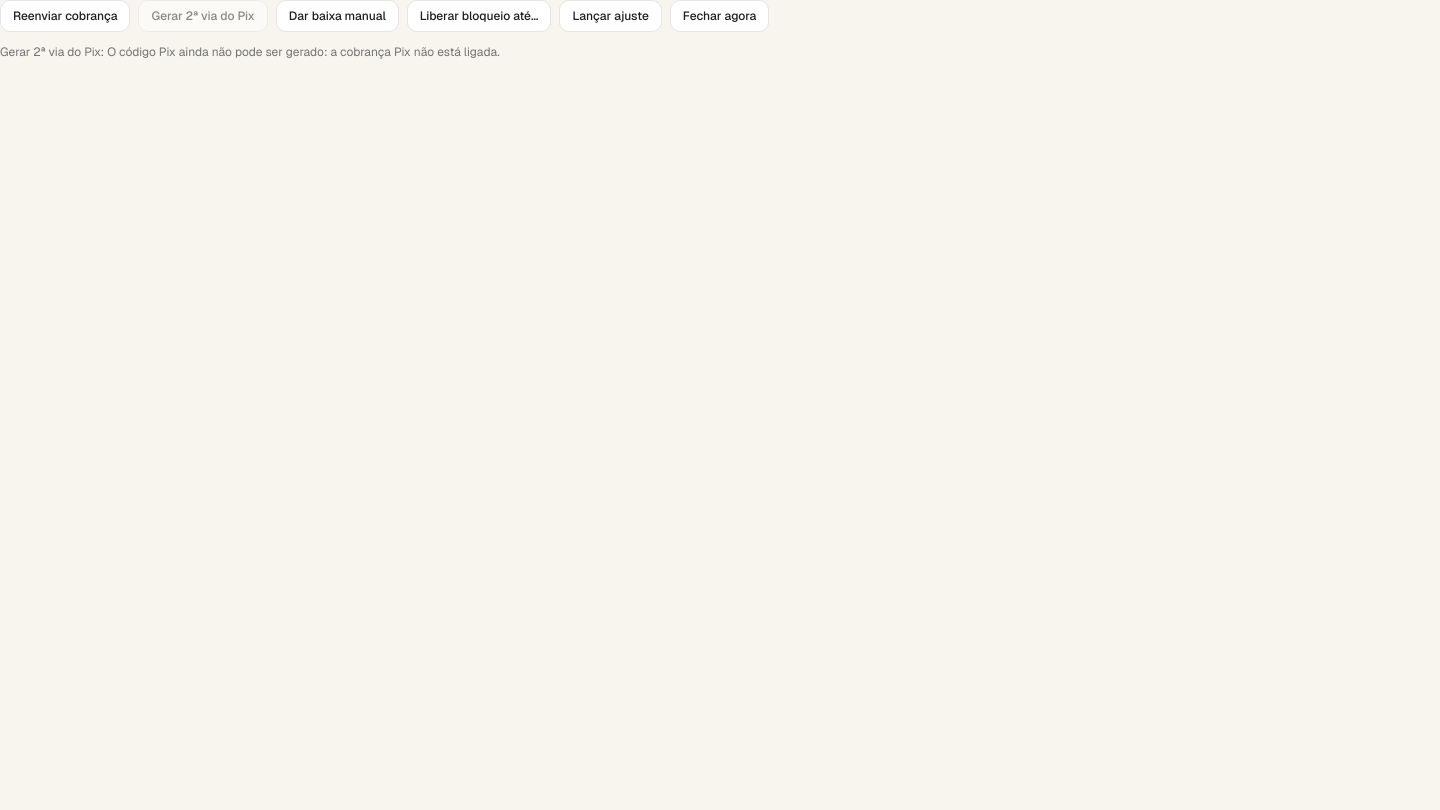
Test: Ações da fatura › botão com o verbo e o valor ('Dar baixa de R$ 1.248,60'), que segue o valor digitado
The image size is (1440, 810).
Click the button "Dar baixa manual" at (337, 16), box x1=276 y1=0 x2=399 y2=32
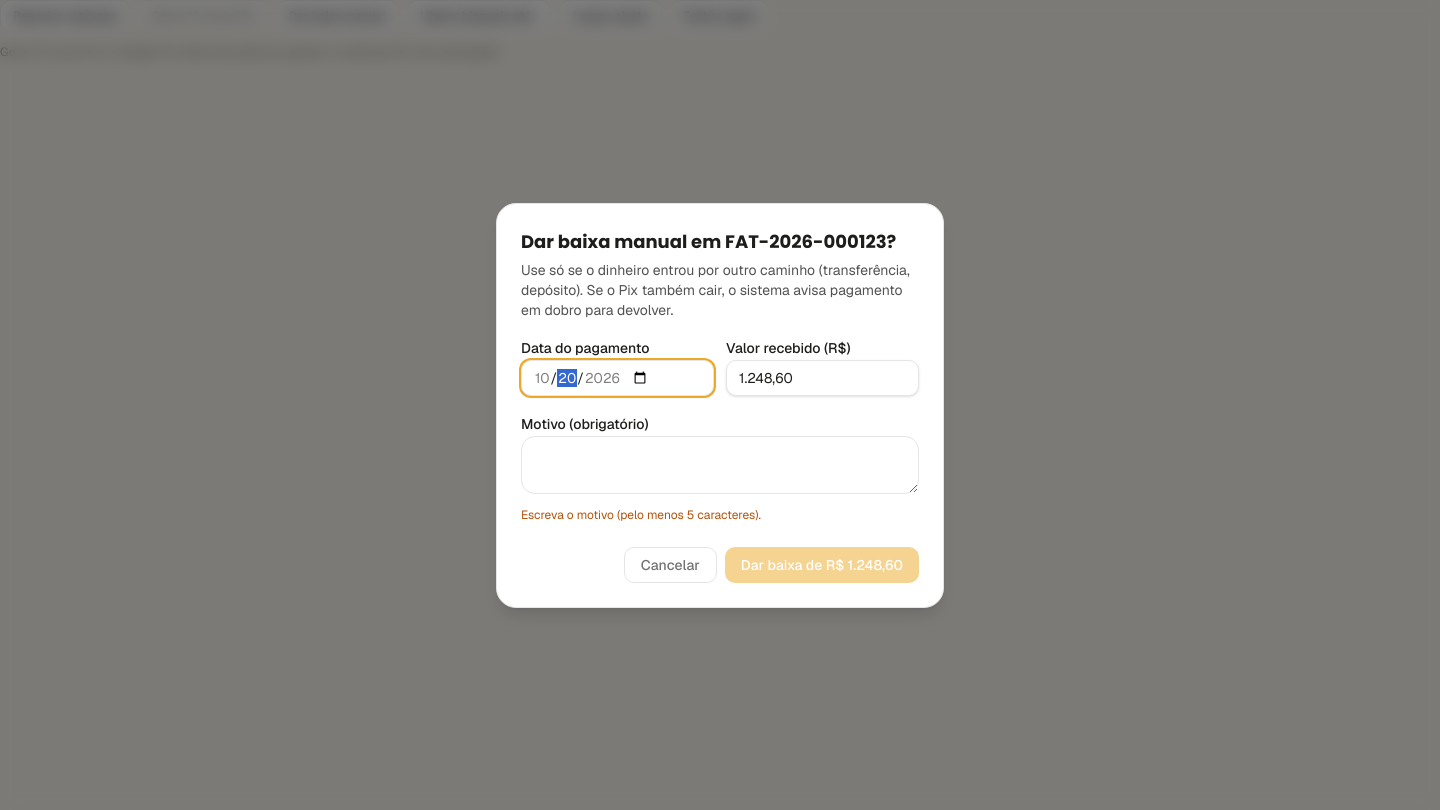
expect the heading "Dar baixa manual em FAT-2026-000123?" is shown: met, box x1=521 y1=228 x2=919 y2=256
expect the date field labelled "Data do pagamento" holds "2026-10-20": met, box x1=521 y1=360 x2=714 y2=396
expect the field labelled "Valor recebido (R$)" holds "1.248,60": met, box x1=726 y1=360 x2=919 y2=396
Type "Transferência recebida no Itaú" into the text box labelled "Motivo (obrigatório)" at (720, 464), box x1=521 y1=436 x2=919 y2=494
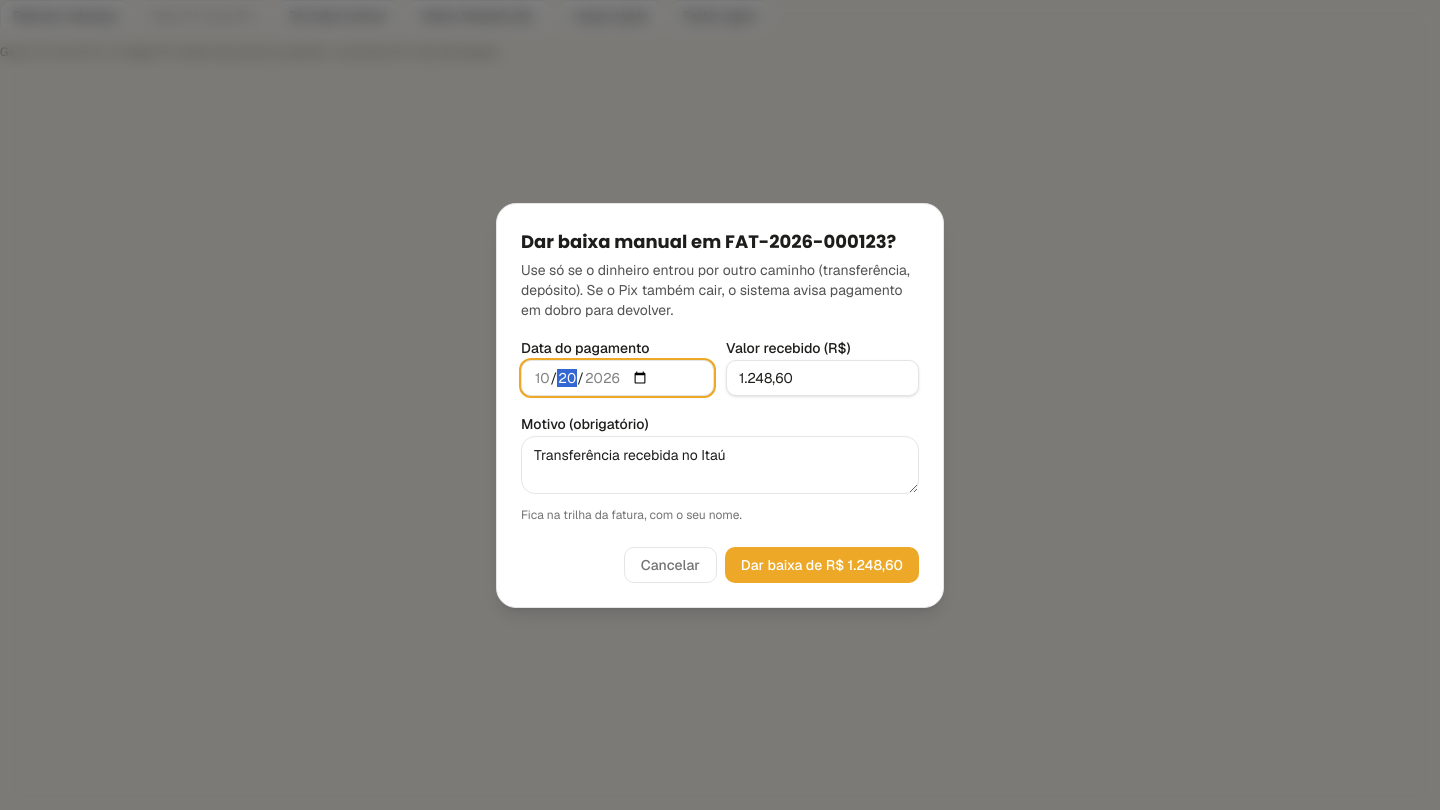
Click the button "Dar baixa de R$ 1.248,60" at (822, 564), box x1=725 y1=546 x2=919 y2=582
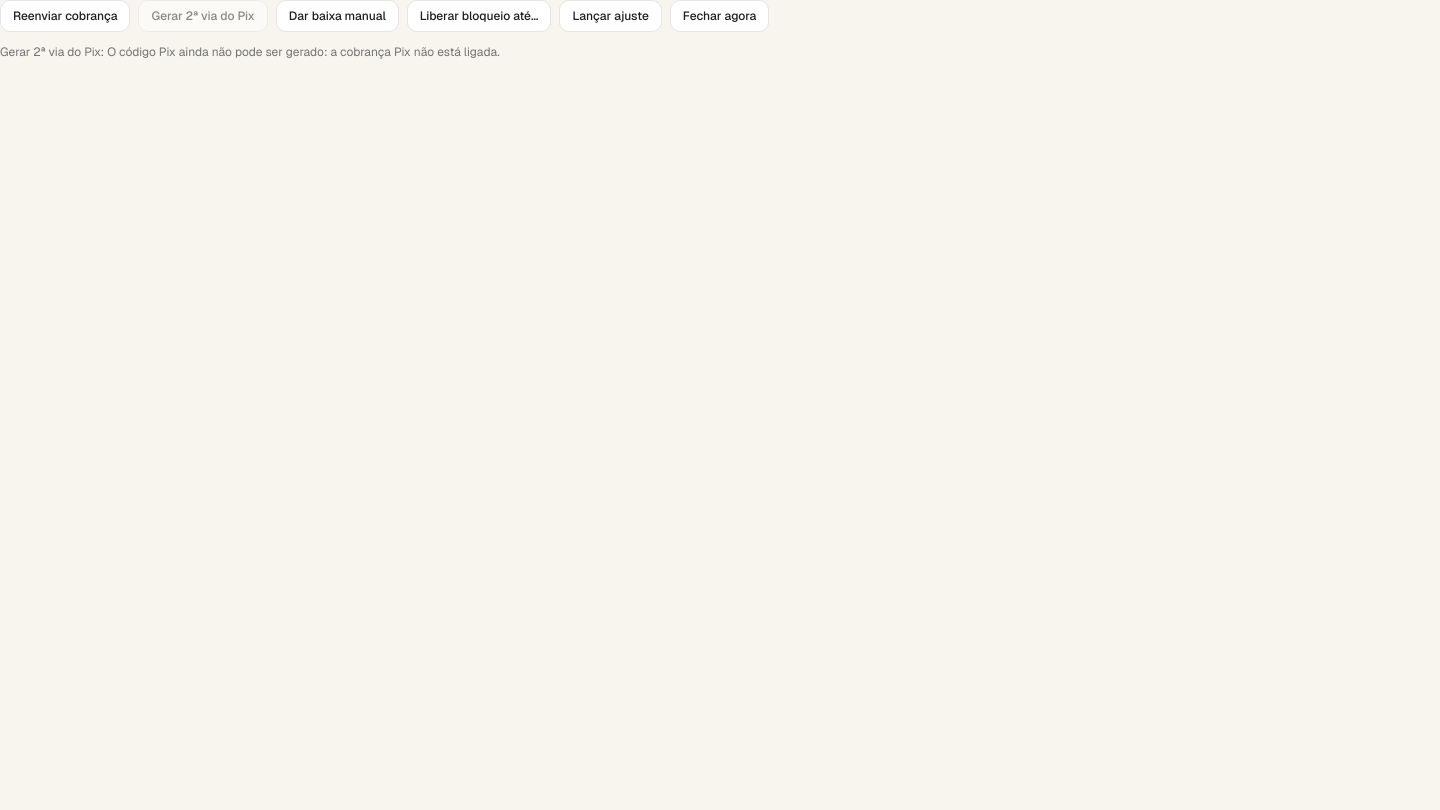
expect the dialog is gone: met
